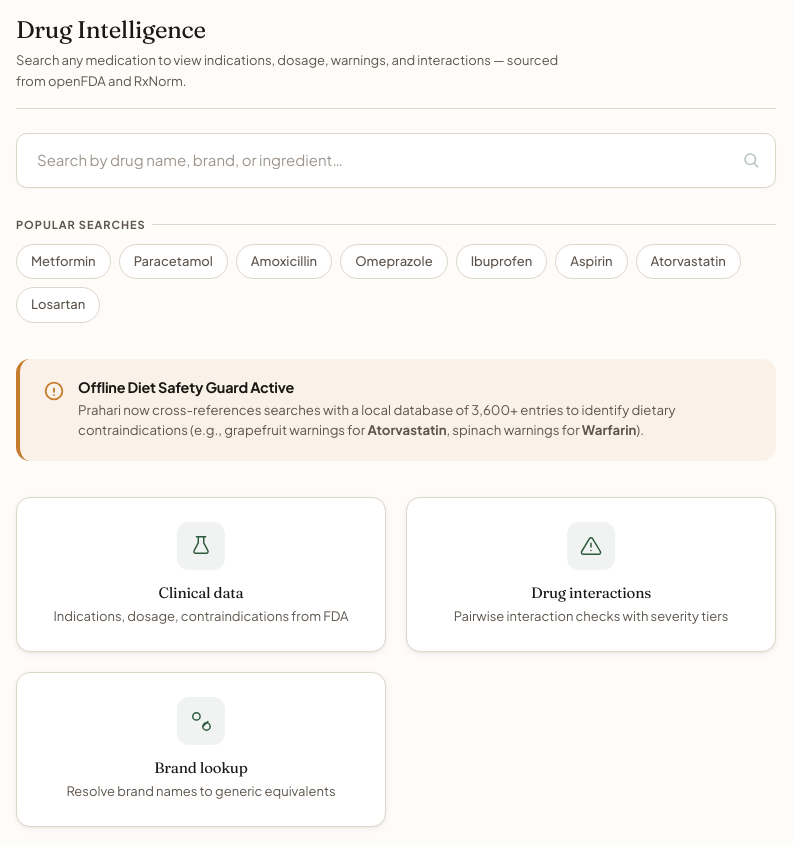
Scenario: MedicationsPage Component Integration › handles drug profile load error (404 and generic)
Search for Unknown
Type "Unknown" into the search field with placeholder "Search by drug name, brand, or ingredient…".
click(396, 160); type("Unknown")  # box 16,133 -> 776,188
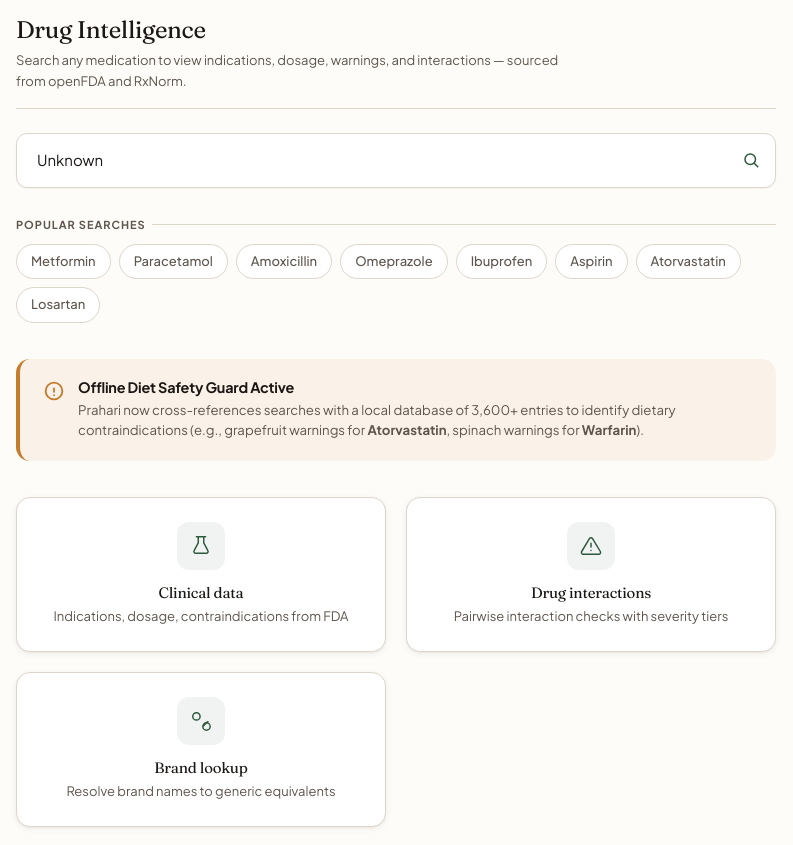
Click the button named "Search".
click(751, 160)  # box 738,147 -> 764,173
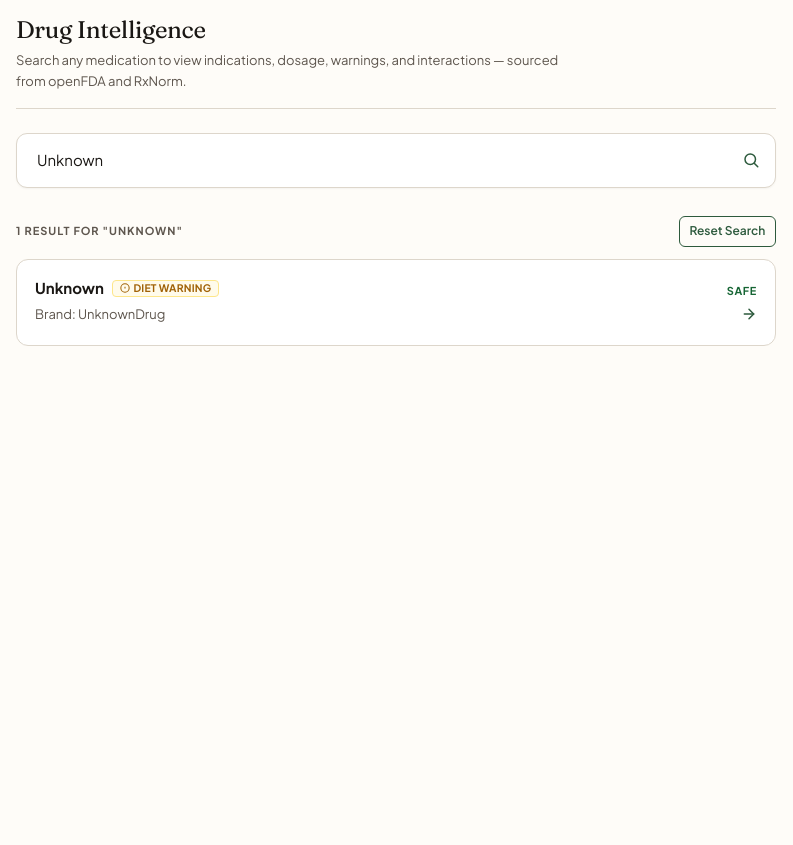
Now the button "Unknown Diet Warning Brand: UnknownDrug safe" is shown
Click the result to load profile
Click the button "Unknown Diet Warning Brand: UnknownDrug safe".
click(70, 288)  # box 16,259 -> 776,346
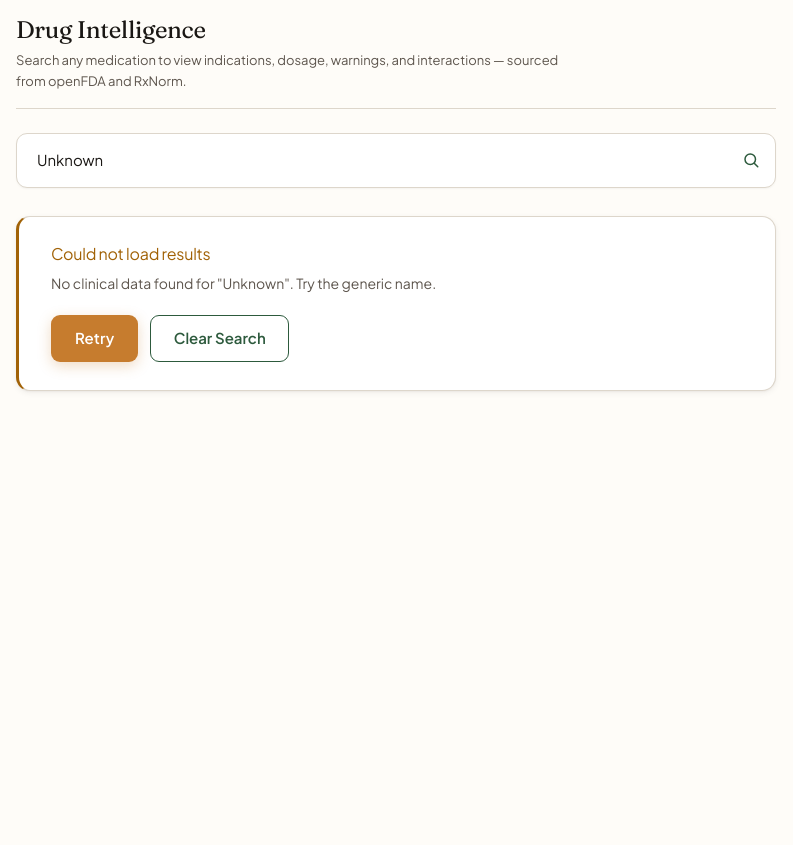
Now the text "No clinical data found for \"Unknown\". Try the generic name." is shown, box 51,274 -> 436,292
